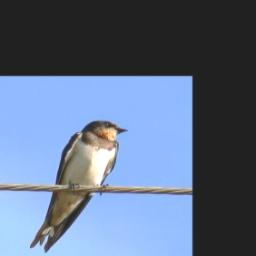Swallow: (29, 119, 130, 252)
